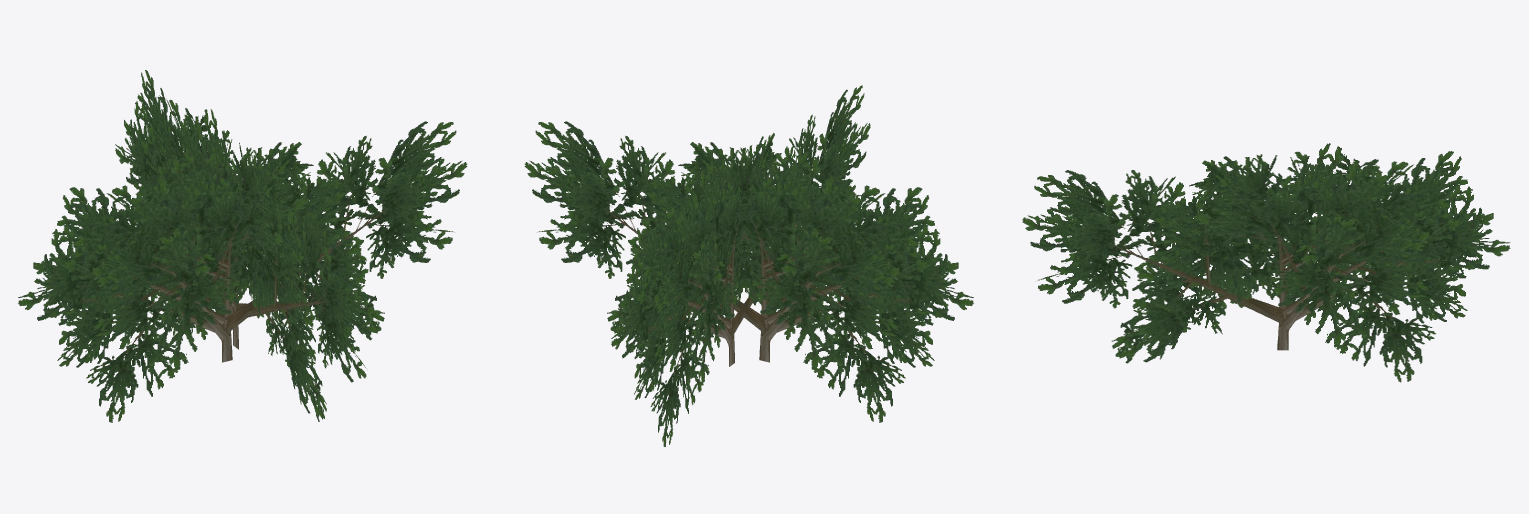
Rendered from bush_c_far.glb.
3 renders of one model, left to right at view 1: azimuth 30°, elevation 25°; view 2: azimuth 150°, elevation 25°; view 3: azimuth 270°, elevation 25°, orthographic. The views are drawn at different scales.
Parts seen in each view (by area): view 1: impostor; view 2: impostor; view 3: impostor.
Part boxes in pixels (x1,y1,x2,y2): impostor: (18, 70, 467, 422); impostor: (524, 85, 973, 446); impostor: (1022, 143, 1510, 382).
Size of the model in its own units: 2.21 by 1.3 by 2.21.
1 material, 1 textured.
